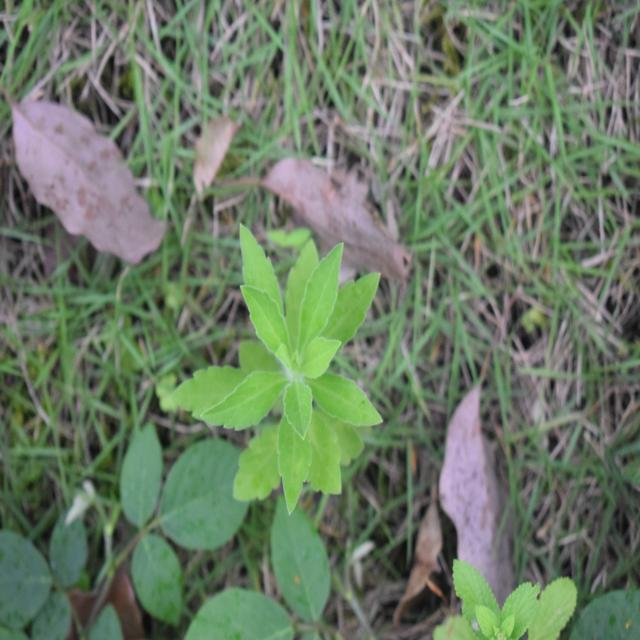horseweed: (199, 231, 374, 501)
